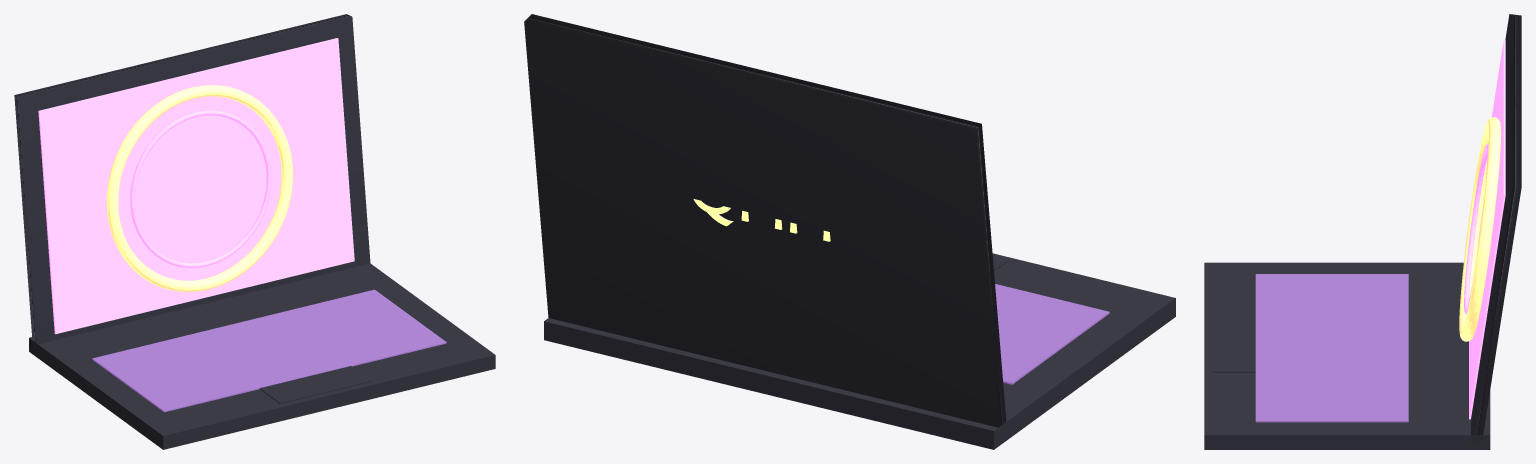
The model's file is portal.glb.
The picture shows the model from 3 angles, left to right: view 1: azimuth 30°, elevation 25°; view 2: azimuth 150°, elevation 25°; view 3: azimuth 270°, elevation 25°; orthographic projection. The views are drawn at different scales.
Visible parts, largest first — view 1: Screen, Base, Keyboard, Lid, PortalRing, PortalRingInner, Trackpad; view 2: Lid, Base, Keyboard, LidLogo; view 3: Base, Keyboard, Lid, PortalRing, Screen, Trackpad, PortalRingInner.
Boxes of the visible parts, x1,y1,x2,y2 form: Screen: (38, 38, 354, 334); Base: (29, 263, 495, 449); Keyboard: (92, 289, 446, 412); Lid: (14, 14, 370, 344); PortalRing: (106, 85, 292, 291); PortalRingInner: (130, 110, 271, 267); Trackpad: (259, 366, 371, 403); Lid: (524, 14, 1006, 427); Base: (544, 253, 1175, 449); Keyboard: (995, 284, 1109, 384); LidLogo: (693, 199, 830, 241); Base: (1204, 262, 1490, 449); Keyboard: (1255, 274, 1408, 422); Lid: (1470, 14, 1521, 444); PortalRing: (1459, 117, 1501, 341); Screen: (1469, 39, 1505, 419); Trackpad: (1212, 324, 1255, 372); PortalRingInner: (1464, 144, 1488, 314).
Bounding box in the file's own units: 4 × 2.84 × 3.1.
